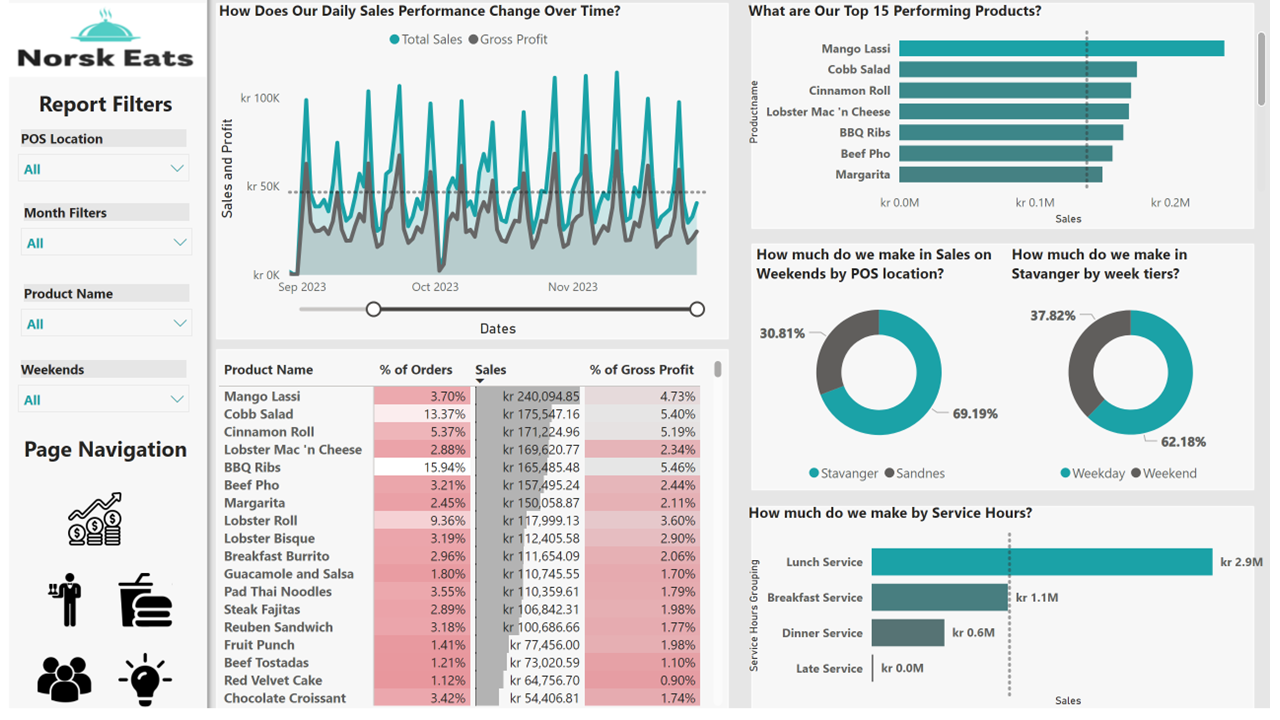

This screenshot's page, from the dashboard's own definition file:
{"tool":"powerbi","page":{"name":"Product Details 🛒","canvas":[1280,720],"ordinal":2},"visuals":[{"type":"pivotTable","fields":{"Rows":["dimProduct.Productname"],"Values":["MeasureTable.% of Orders","MeasureTable.Total Sales","MeasureTable.% of Gross Profit"]},"box":[208.8,360.3,520.6,360.3],"z":0},{"type":"clusteredBarChart","title":"How much do we make by Service Hours?","fields":{"Y":["MeasureTable.Total Sales"],"Category":["SalesFact.Service Hours Grouping","dimCalendar.Day Name"]},"box":[745.6,508.8,533.8,211.8],"z":1000},{"type":"clusteredBarChart","title":"What are Our Top 15 Performing Products?","fields":{"Category":["dimProduct.Productname","dimCalendar.Weekend"],"Y":["MeasureTable.Total Sales"]},"box":[745.5,0,534.3,232.4],"z":2000},{"type":"donutChart","title":"How much do we make in Sales on Weekends by POS location?","fields":{"Category":["SalesFact.POS"],"Y":["MeasureTable.Weekend Sales"]},"box":[754.4,247.1,258.8,251.5],"z":3000},{"type":"donutChart","title":"How much do we make in Stavanger by week tiers?","fields":{"Y":["MeasureTable.Stavanger Sales"],"Category":["dimCalendar.Weekend"]},"box":[1013.2,247.1,251.5,251.5],"z":4000},{"type":"areaChart","title":"How Does Our Daily Sales Performance Change Over Time?","fields":{"Category":["dimCalendar.Dates"],"Y":["MeasureTable.Total Sales","MeasureTable.Gross Profit"]},"box":[208.8,0,520.6,345.6],"z":5000},{"type":"slicer","fields":{"Values":["dimCalendar.Start of Month"]},"box":[2.8,201.3,194.2,62.4],"z":6000},{"type":"textbox","box":[1.4,435.1,195.6,41.1],"z":7000},{"type":"textbox","box":[1.4,85,195.6,41.1],"z":8000},{"type":"slicer","fields":{"Values":["dimProduct.Productname"]},"box":[2.8,283.5,194.2,62.4],"z":9000},{"type":"slicer","fields":{"Values":["dimCalendar.Weekend"]},"box":[0,360,194.2,62.4],"z":10000},{"type":"slicer","fields":{"Values":["SalesFact.POS"]},"box":[0,126.1,194.2,62.4],"z":11000},{"type":"actionButton","box":[56.7,494.6,62,62],"z":12000},{"type":"actionButton","box":[25.5,576.9,62.4,62.4],"z":13000},{"type":"actionButton","box":[107.7,576.9,62.4,62.4],"z":14000},{"type":"actionButton","box":[25.5,657.6,62.4,62.4],"z":15000},{"type":"actionButton","box":[107.7,657.6,62.4,62.4],"z":16000}]}

Visuals, with their boxes in screenshot pixels (x1, y1, x2, y2), scaled from the page's 1280x720 canvas onto the 1280x720 screenshot:
pivotTable - dimProduct.Productname x MeasureTable.% of Orders: x1=209, y1=360, x2=729, y2=719
"How much do we make by Service Hours?" clusteredBarChart: x1=746, y1=509, x2=1279, y2=719
"What are Our Top 15 Performing Products?" clusteredBarChart: x1=746, y1=0, x2=1279, y2=232
"How much do we make in Sales on Weekends by POS location?" donutChart: x1=754, y1=247, x2=1013, y2=499
"How much do we make in Stavanger by week tiers?" donutChart: x1=1013, y1=247, x2=1265, y2=499
"How Does Our Daily Sales Performance Change Over Time?" areaChart: x1=209, y1=0, x2=729, y2=346
slicer - dimCalendar.Start of Month: x1=3, y1=201, x2=197, y2=264
textbox: x1=1, y1=435, x2=197, y2=476
textbox: x1=1, y1=85, x2=197, y2=126
slicer - dimProduct.Productname: x1=3, y1=284, x2=197, y2=346
slicer - dimCalendar.Weekend: x1=0, y1=360, x2=194, y2=422
slicer - SalesFact.POS: x1=0, y1=126, x2=194, y2=188
actionButton: x1=57, y1=495, x2=119, y2=557
actionButton: x1=26, y1=577, x2=88, y2=639
actionButton: x1=108, y1=577, x2=170, y2=639
actionButton: x1=26, y1=658, x2=88, y2=719
actionButton: x1=108, y1=658, x2=170, y2=719
